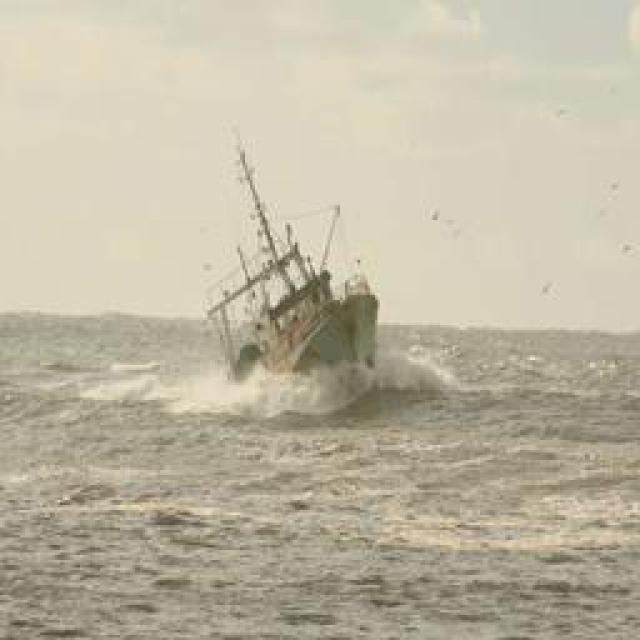Ship: (205, 133, 380, 388)
